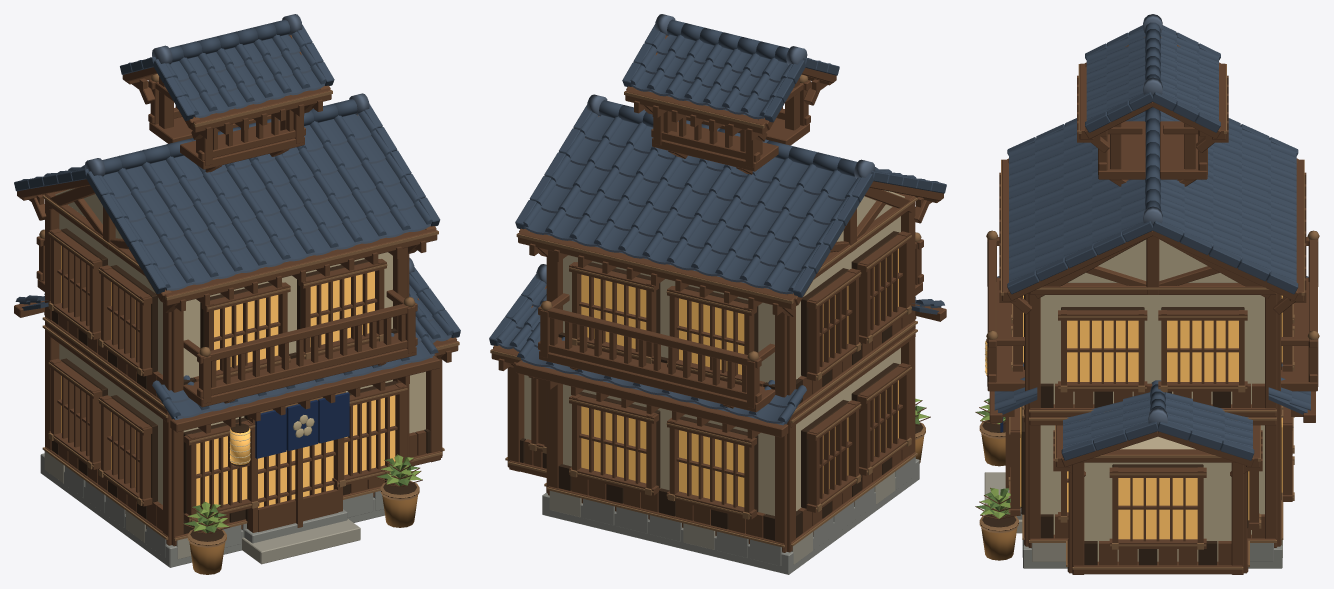
3 renders of one model, left to right at view 1: azimuth 30°, elevation 25°; view 2: azimuth 150°, elevation 25°; view 3: azimuth 270°, elevation 25°, orthographic.
Visible parts, largest first — view 1: compact_tower_2_geometry, compact_tower_2_geometry ceramic; view 2: compact_tower_2_geometry, compact_tower_2_geometry ceramic; view 3: compact_tower_2_geometry, compact_tower_2_geometry ceramic.
Boxes of the visible parts, x1,y1,x2,y2 form: compact_tower_2_geometry: (14, 35, 459, 574); compact_tower_2_geometry ceramic: (14, 14, 460, 420); compact_tower_2_geometry: (490, 35, 946, 574); compact_tower_2_geometry ceramic: (489, 14, 946, 425); compact_tower_2_geometry: (975, 37, 1319, 574); compact_tower_2_geometry ceramic: (994, 14, 1310, 460).
Size of the model in its own units: 0.8712 by 1.16 by 0.7858.
